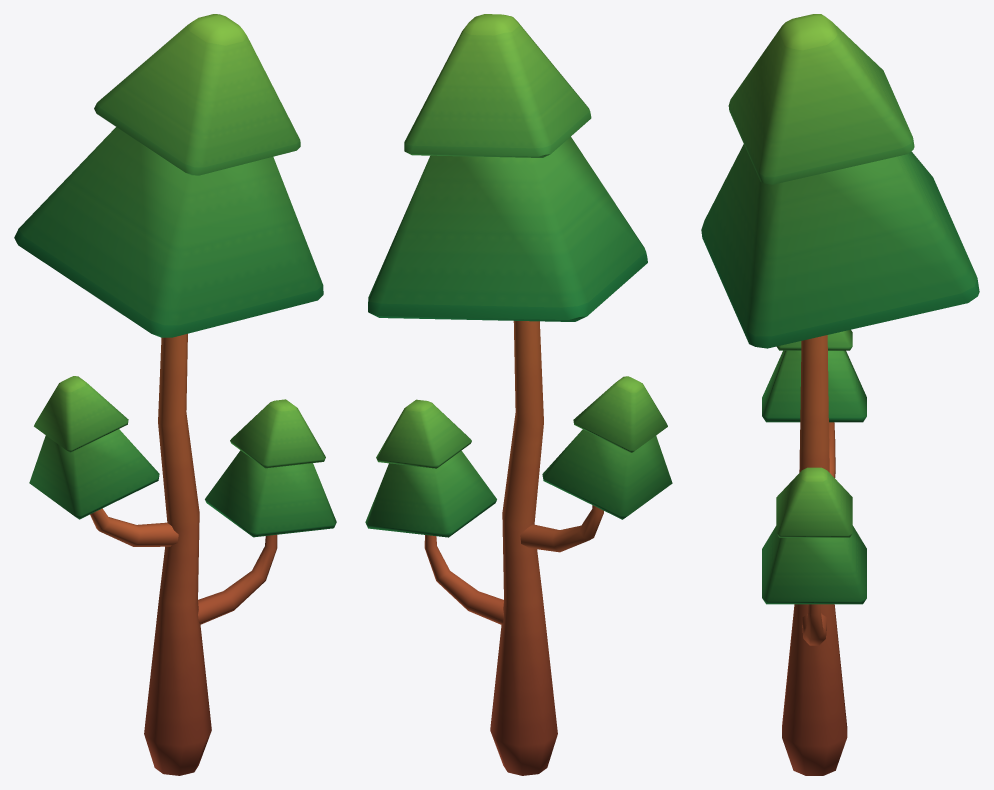
File: Tree_4_B_Color1.gltf
3 renders of one model, left to right at view 1: azimuth 30°, elevation 25°; view 2: azimuth 150°, elevation 25°; view 3: azimuth 270°, elevation 25°, orthographic. The views are drawn at different scales.
Parts seen in each view (by area): view 1: Tree_4_B_Color1; view 2: Tree_4_B_Color1; view 3: Tree_4_B_Color1.
Boxes of the visible parts, left/top/right/bottom form: Tree_4_B_Color1: left=14, top=14, right=336, bottom=775; Tree_4_B_Color1: left=365, top=14, right=672, bottom=775; Tree_4_B_Color1: left=701, top=14, right=979, bottom=775.
Size of the model in its own units: 2.57 by 6.94 by 2.27.
1 material, 1 textured.
